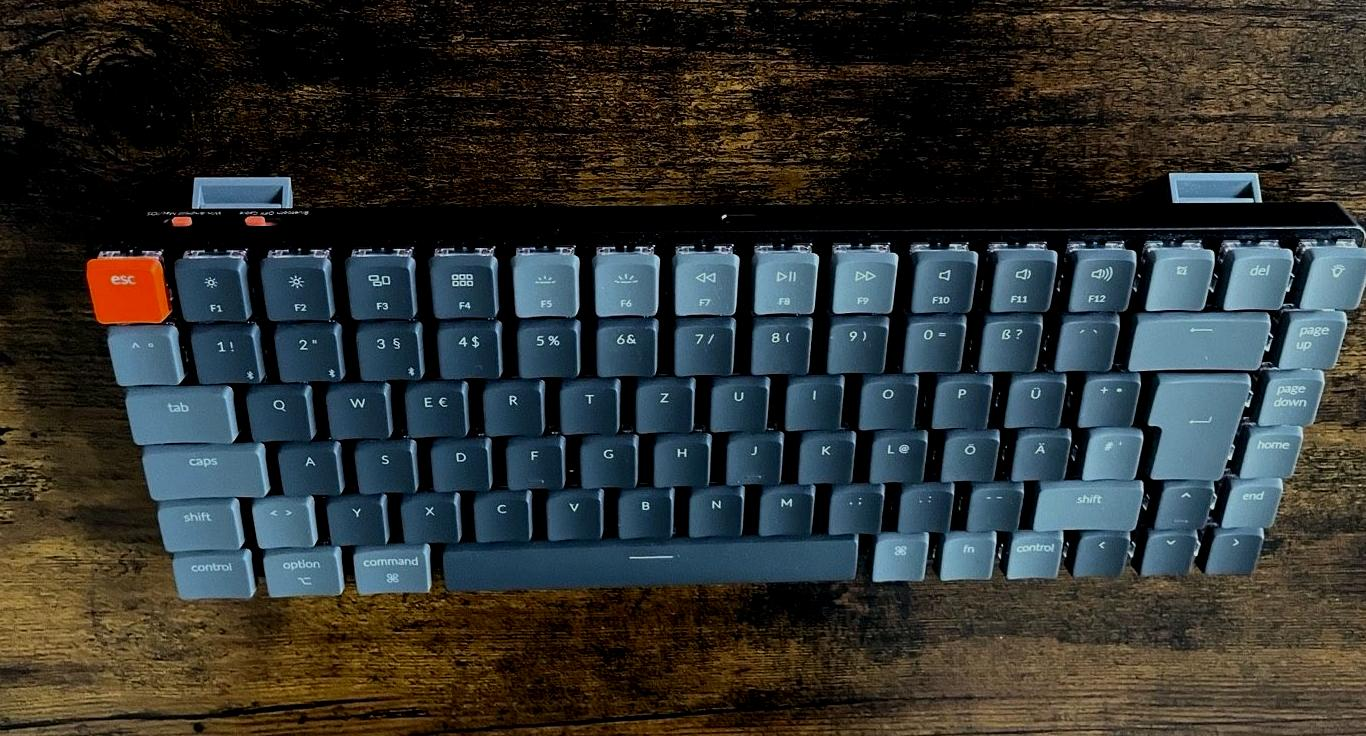0: (901, 315, 965, 369)
1: (190, 319, 261, 381)
2: (271, 318, 342, 379)
3: (352, 317, 422, 377)
4: (434, 317, 500, 375)
5: (515, 318, 580, 374)
6: (593, 317, 657, 373)
7: (671, 319, 734, 372)
8: (749, 317, 811, 371)
9: (824, 316, 887, 370)
a: (276, 438, 341, 492)
accent: (1052, 314, 1115, 368)
ae: (1008, 427, 1068, 478)
alt-left: (261, 547, 343, 598)
b: (614, 485, 672, 535)
c: (470, 487, 530, 539)
caret: (104, 319, 180, 382)
comma: (825, 480, 881, 531)
d: (427, 434, 489, 488)
del: (1125, 309, 1268, 367)
e: (401, 377, 466, 434)
enter: (1142, 370, 1249, 477)
f: (502, 433, 562, 486)
g: (576, 430, 634, 484)
h: (649, 429, 707, 484)
hash: (1079, 424, 1140, 476)
i: (781, 372, 841, 426)
j: (723, 428, 781, 481)
k: (794, 427, 853, 481)
keyboard: (80, 215, 1366, 606)
l: (866, 426, 925, 480)
less: (249, 492, 314, 545)
m: (755, 481, 812, 533)
minus: (964, 480, 1021, 527)
n: (684, 482, 743, 534)
o: (853, 371, 915, 426)
oe: (938, 428, 997, 478)
p: (928, 371, 989, 425)
plus: (1074, 371, 1138, 423)
point: (896, 480, 952, 528)
q: (243, 381, 312, 438)
r: (481, 377, 543, 432)
s: (352, 436, 415, 490)
shift-left: (154, 496, 241, 548)
shift-lock: (138, 441, 266, 497)
shift-right: (1031, 477, 1141, 527)
space: (433, 537, 862, 585)
ss: (976, 315, 1040, 368)
strg-left: (167, 547, 253, 595)
strg-right: (1005, 528, 1063, 583)
t: (556, 374, 617, 430)
tab: (122, 382, 233, 441)
u: (705, 373, 767, 430)
ue: (1000, 370, 1064, 425)
v: (543, 486, 602, 537)
w: (323, 379, 389, 436)
x: (398, 490, 460, 541)
y: (325, 492, 385, 542)
z: (631, 375, 691, 429)
